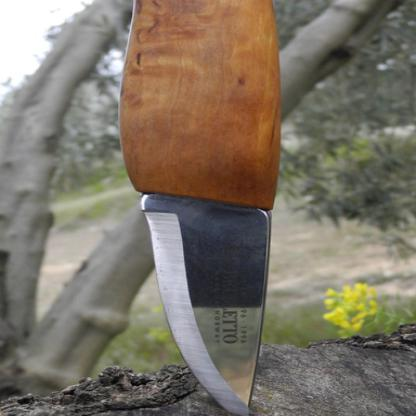knife: (113, 0, 280, 413)
